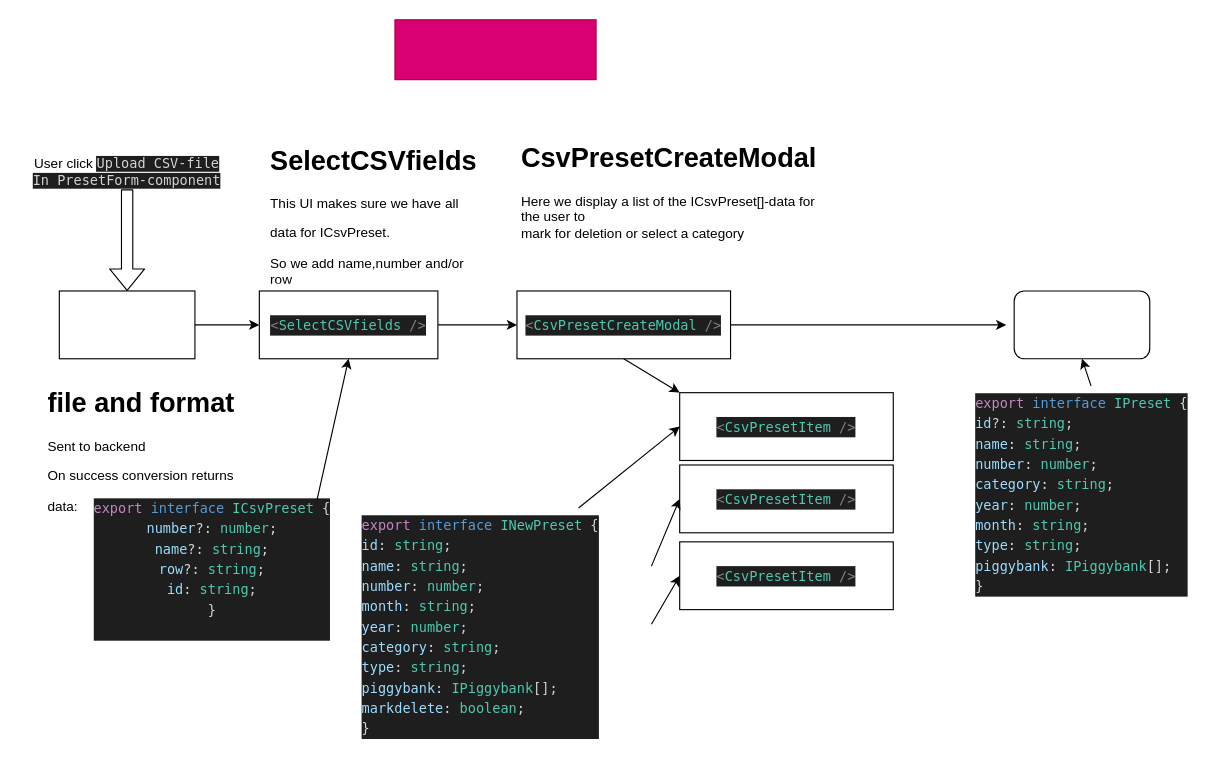
Image size: 1227x760. Some labels were removed from this diagram. Each missing label, with the centre of its shape:
"< SelectFile />" goes at [126,324].
"Data added to presets" goes at [1081,324].
"NOTE: This only displays data flow and not all logic/complexity" goes at [495,49].
